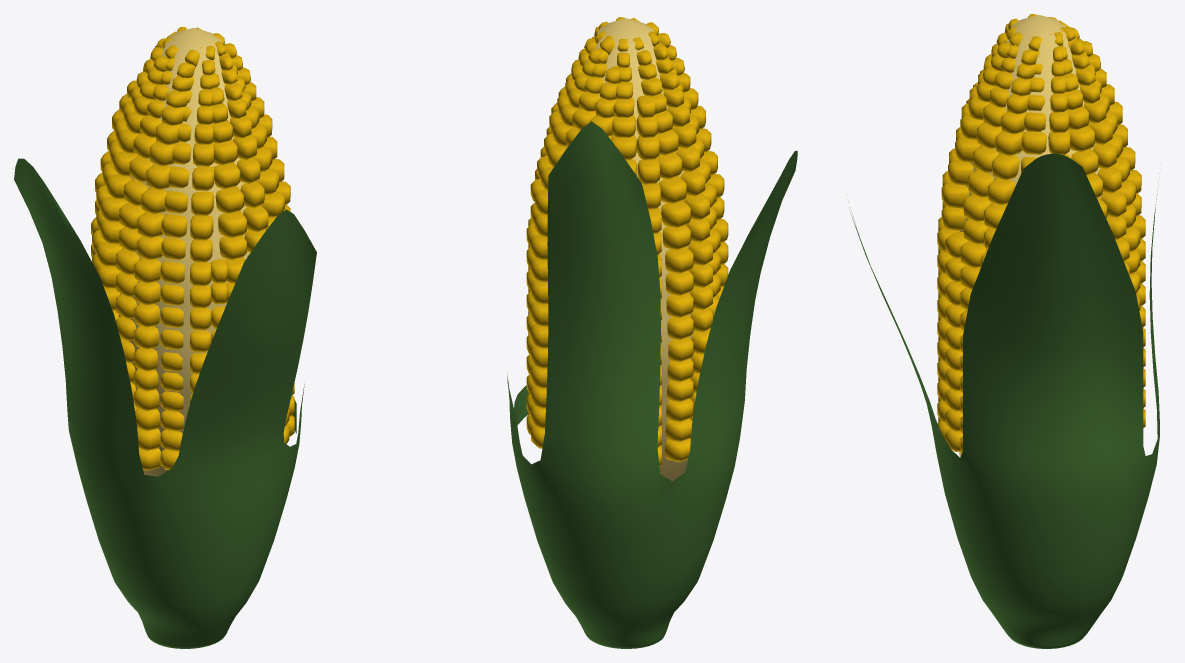
The model's file is 5PEyOwPaKlg.glb.
The picture shows the model from 3 angles, left to right: view 1: azimuth 30°, elevation 25°; view 2: azimuth 150°, elevation 25°; view 3: azimuth 270°, elevation 25°; orthographic projection.
Visible parts, largest first — view 1: Tube001, Sphere001; view 2: Tube001, Sphere001; view 3: Tube001, Sphere001.
Boxes of the visible parts, x1,y1,x2,y2 form: Tube001: (14,158,316,648); Sphere001: (91,27,294,476); Tube001: (507,121,797,648); Sphere001: (526,17,728,481); Tube001: (850,153,1159,648); Sphere001: (937,14,1145,457).
Size of the model in its own units: 0.6297 by 1 by 0.5051.
